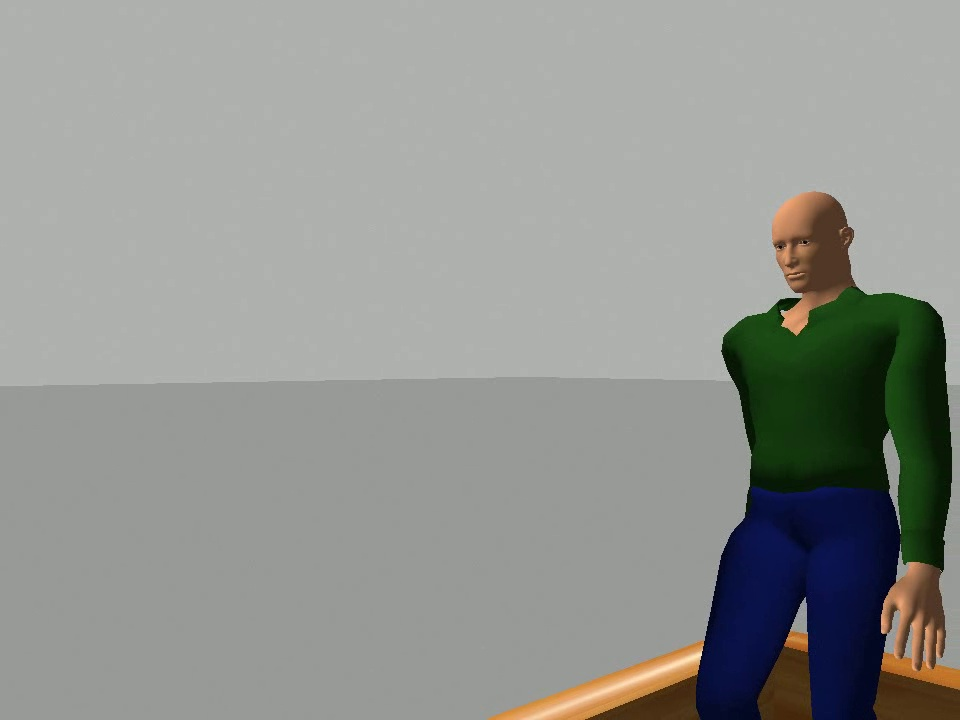person: (688, 189, 956, 720)
